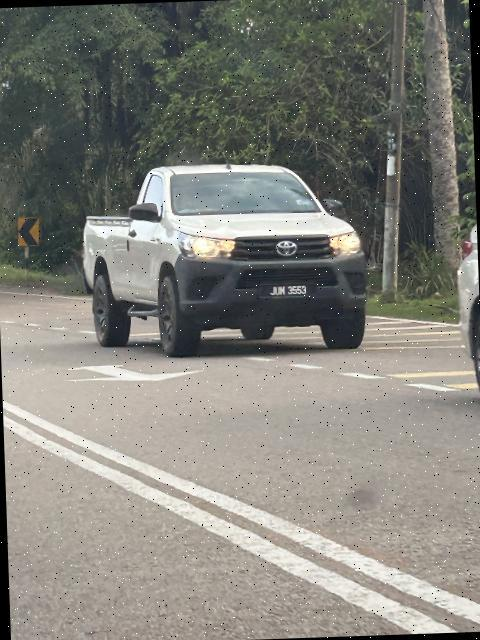JUM3553: (254, 280, 320, 302)
License_Plate: (254, 280, 320, 302)
car: (69, 154, 374, 370)
